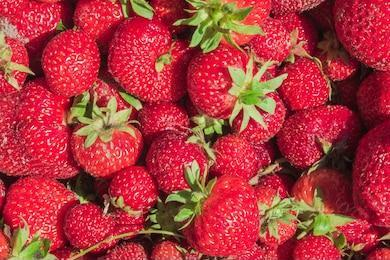Fresa: (178, 166, 266, 260), (184, 40, 265, 125), (67, 108, 147, 183), (106, 162, 163, 218)
